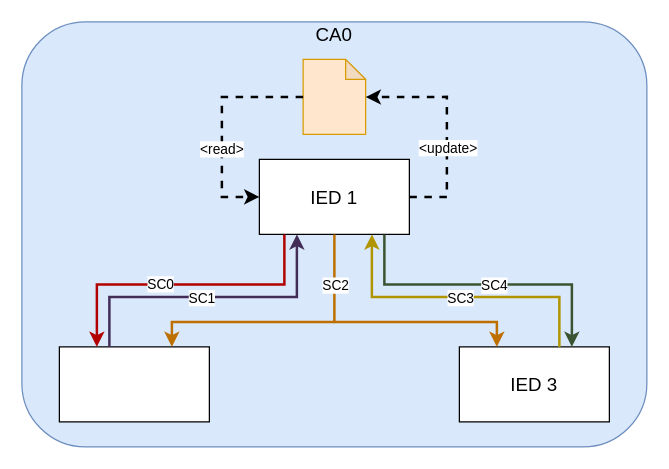
This 669x469 diagram has some shape labels left out. The centre of each missing label's shape, as x and y in pixels:
"<SCL/>" goes at point (334, 96).
"IED 2" goes at point (133, 384).
